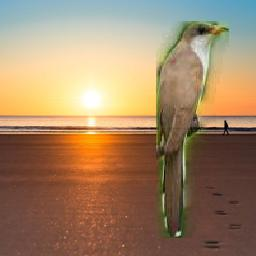Cuckoo: (157, 22, 230, 239)
